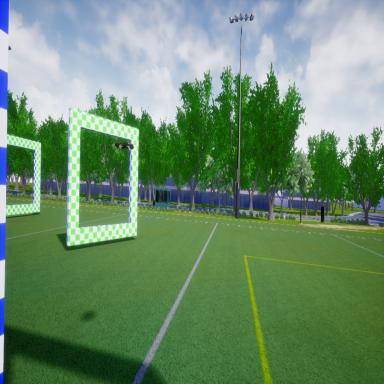gate: (65, 103, 142, 250)
